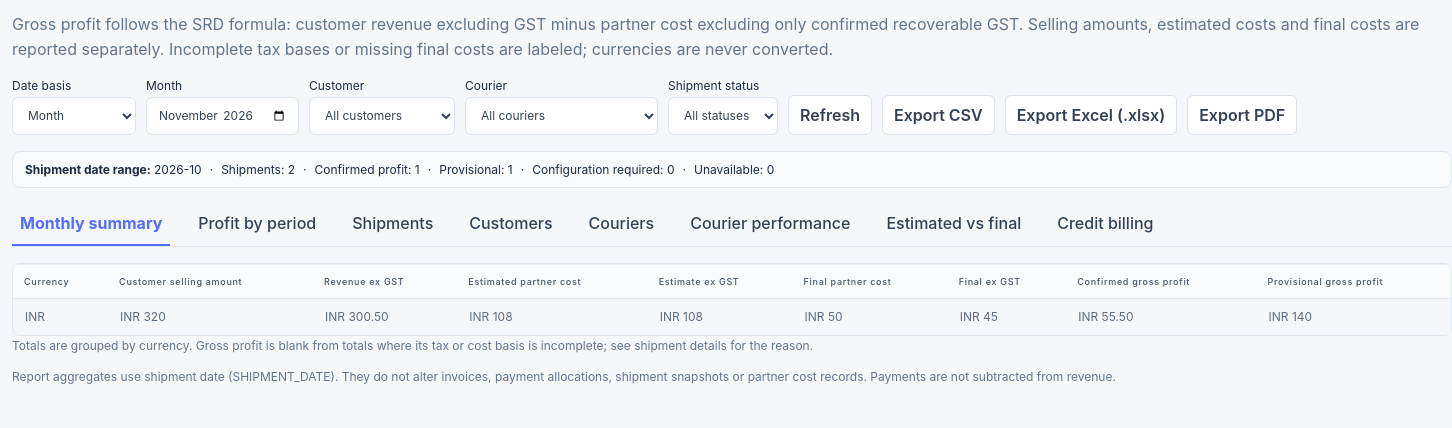
Test: exports the currently displayed report as CSV without changing report data
Expected: the column heading "Confirmed gross profit" is shown, [1066,264,1256,298]
Click the button "Export CSV" at (938,115), box [882,95,995,135]
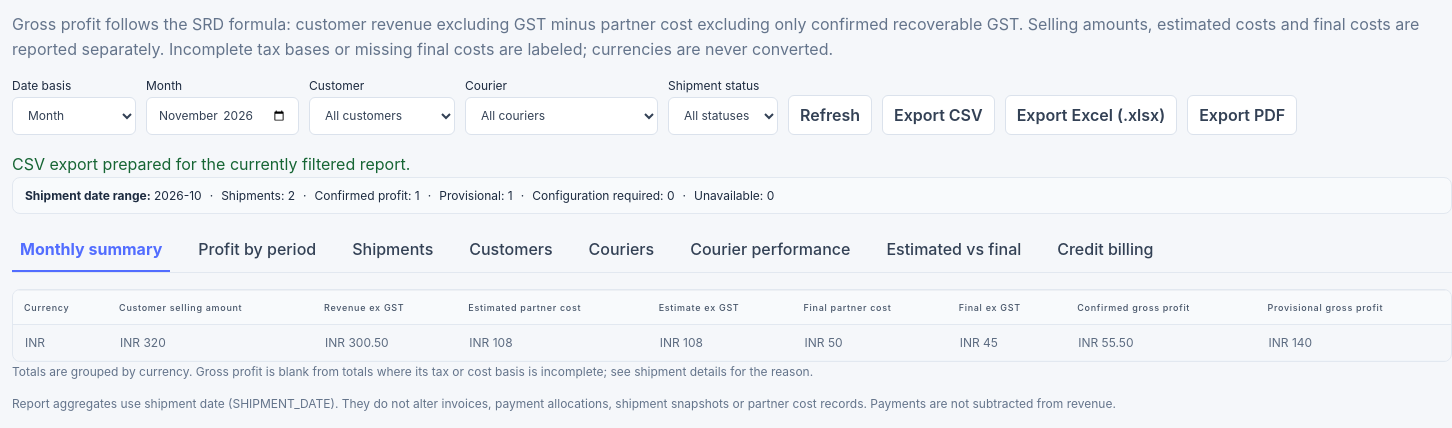
Result: the message shows "CSV export prepared" at [12,154,410,174]
